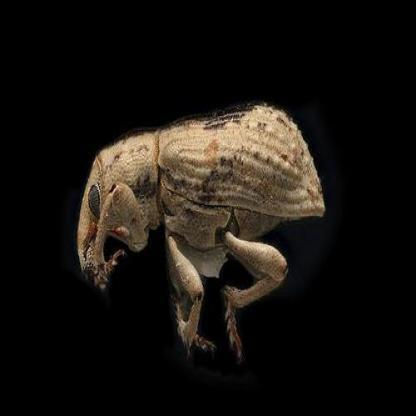rice-bug: (76, 102, 318, 343)
